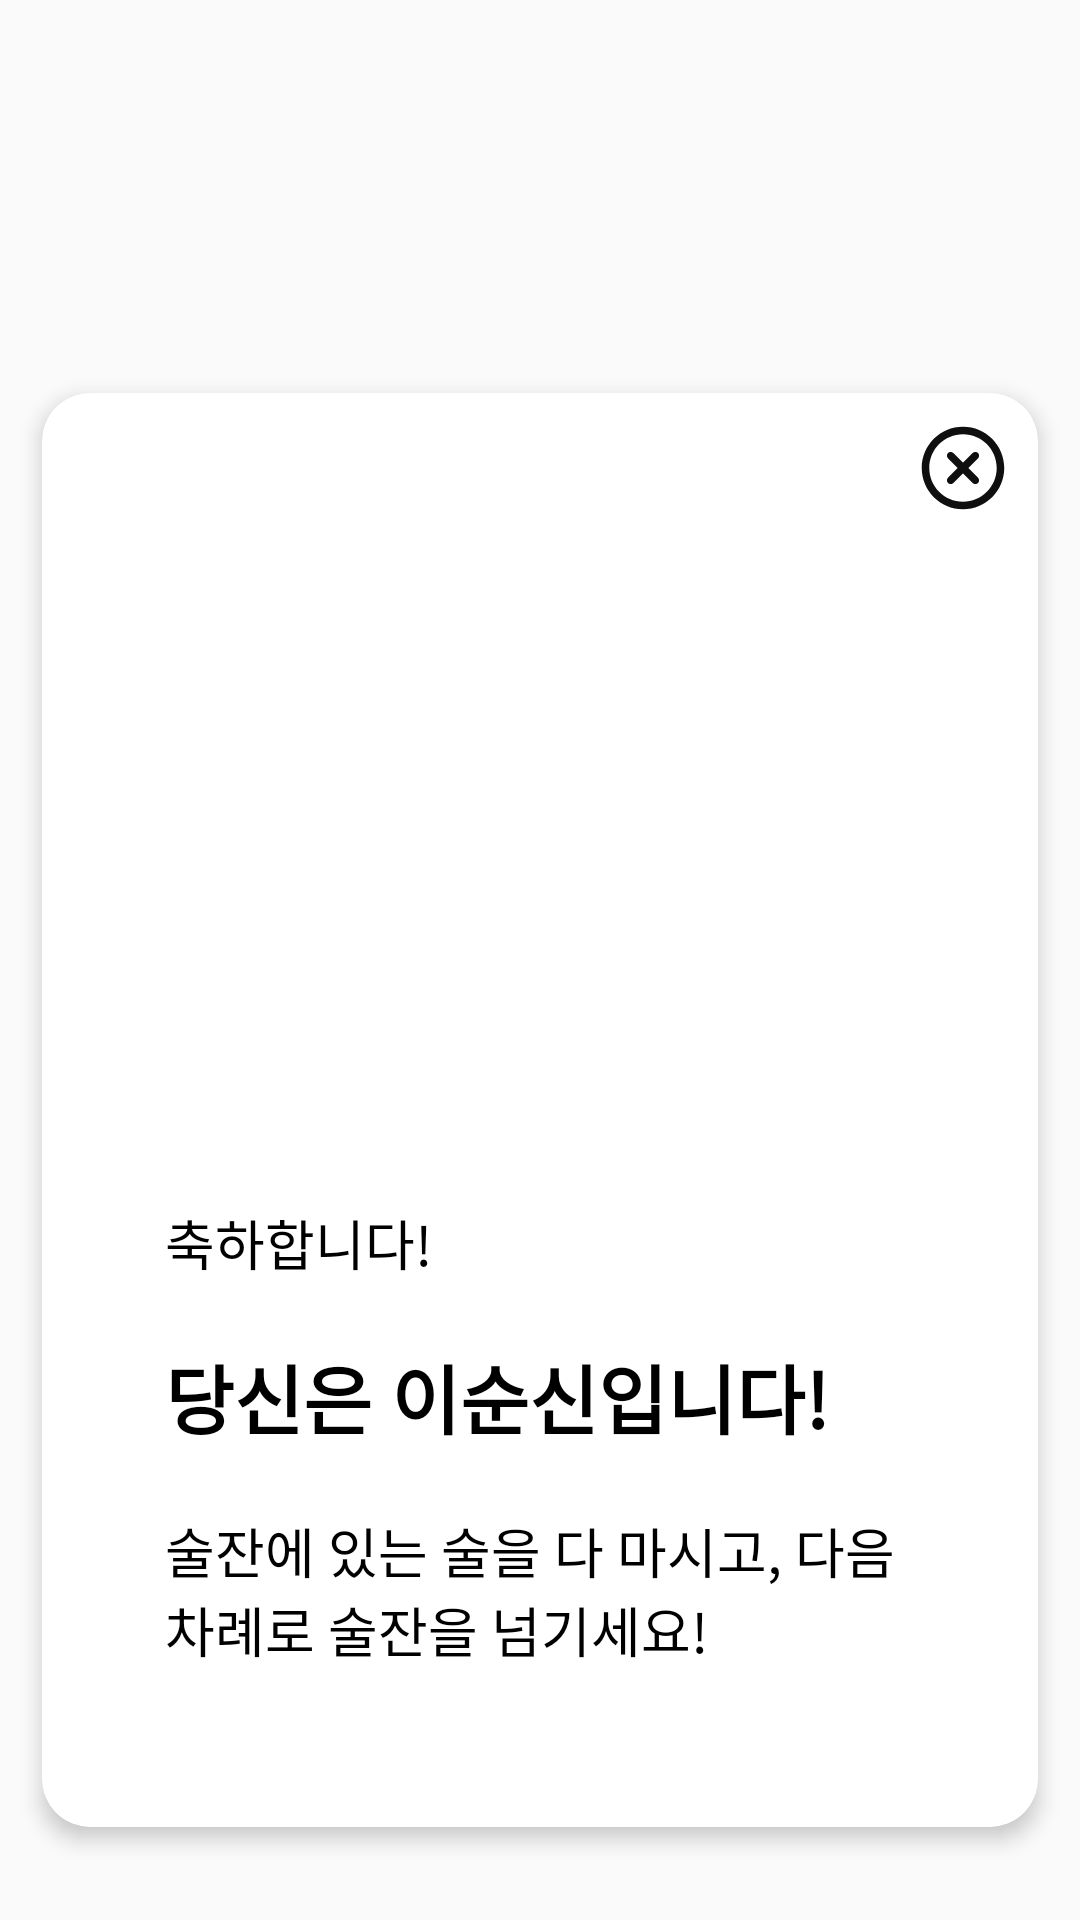

Icons on this 1080*1920 Android screen, each with the point to tap as (x,y):
close button: (963,468)
